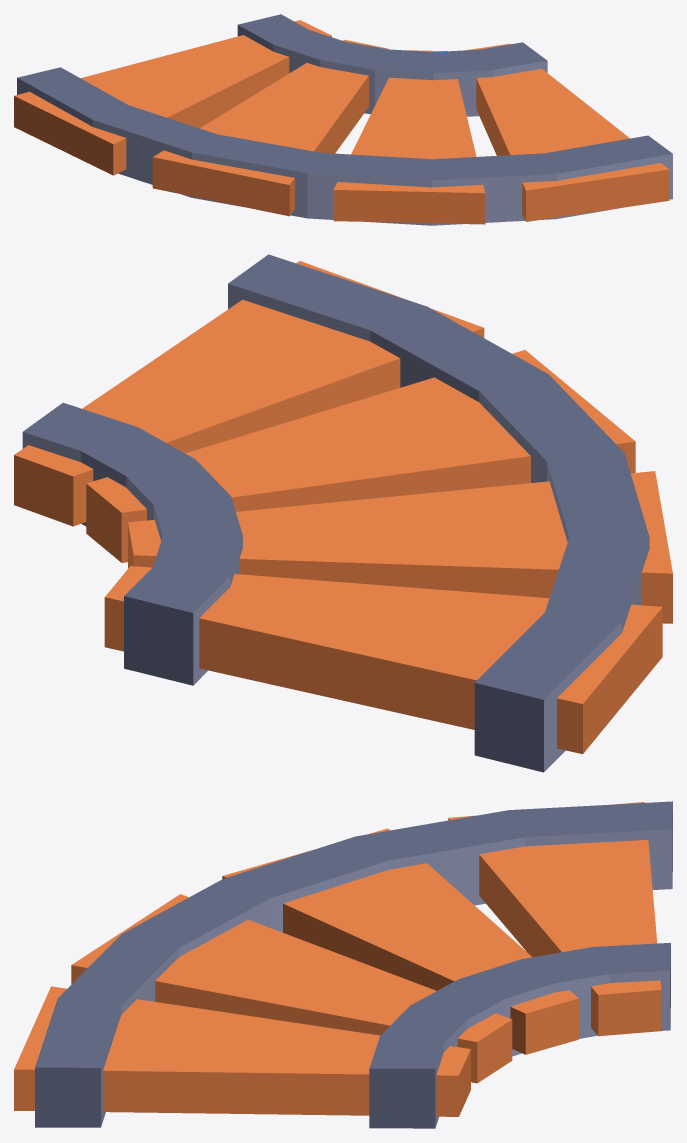
File: Rail001.fbx
3 renders of one model, top to bottom at view 1: azimuth 30°, elevation 25°; view 2: azimuth 150°, elevation 25°; view 3: azimuth 270°, elevation 25°, orthographic. The views are drawn at different scales.
Parts seen in each view (by area): view 1: Rail001; view 2: Rail001; view 3: Rail001.
Boxes of the visible parts, x1=… form: Rail001: x1=14, y1=14, x2=672, y2=225; Rail001: x1=14, y1=254, x2=672, y2=772; Rail001: x1=14, y1=801, x2=672, y2=1128.
Bounding box in the file's own units: 209 × 21.11 × 211.
